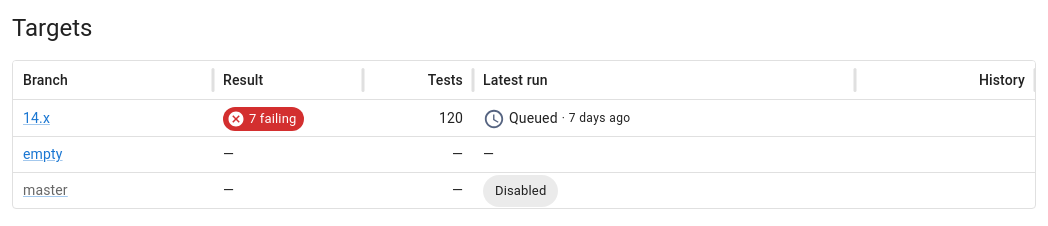
Test case: TargetsPage › navigates to the target page from the branch link
This screenshot has width=1048, height=226.
Click the link "14.x" at (36, 118), box [23,110,50,126]
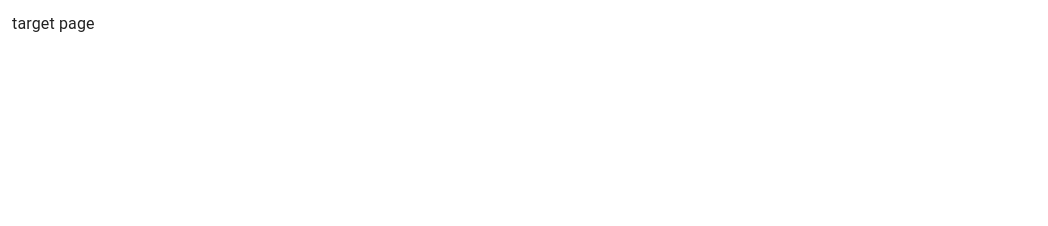
Now the text "target page" is shown, box [12,14,95,33]
